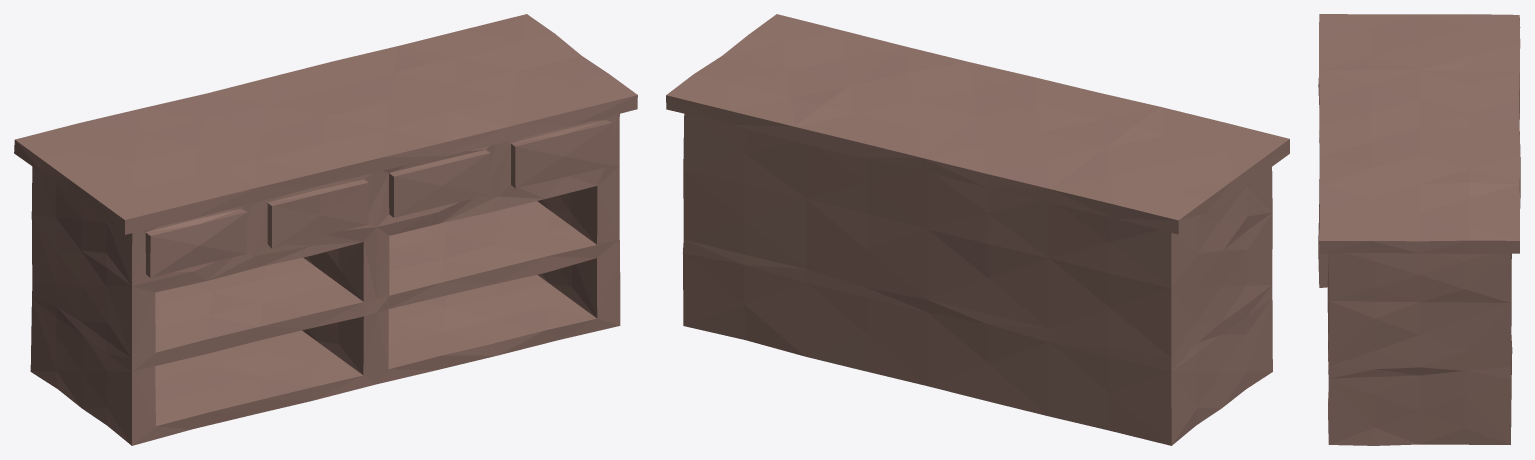
Rendered from livingroom_counter.fbx.
3 views of the same model, side by side, from view 1: azimuth 30°, elevation 25°; view 2: azimuth 150°, elevation 25°; view 3: azimuth 270°, elevation 25° (orthographic). The views are drawn at different scales.
Parts seen in each view (by area): view 1: livingroom_counter; view 2: livingroom_counter; view 3: livingroom_counter.
Part boxes in pixels (box(x1,y1,x2,y2)): livingroom_counter: box(14, 14, 637, 445); livingroom_counter: box(666, 14, 1289, 445); livingroom_counter: box(1318, 14, 1520, 445).
Bounding box in the file's own units: 156 × 67.91 × 58.79.
